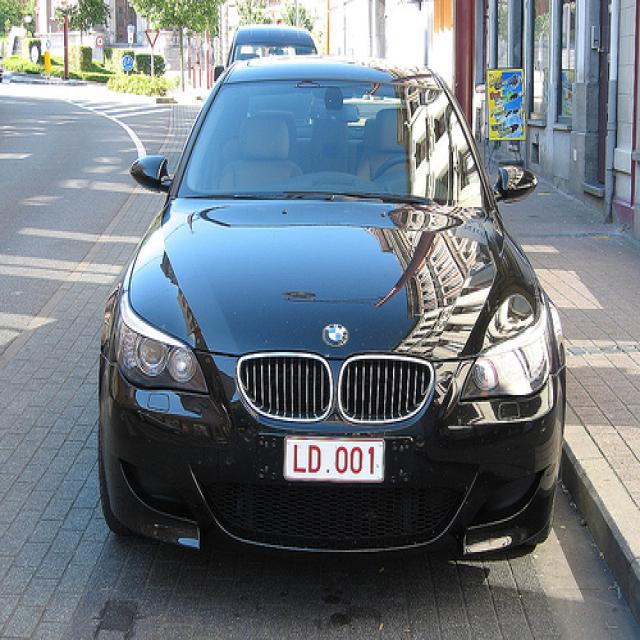car: (88, 38, 572, 583), (225, 23, 318, 70)
